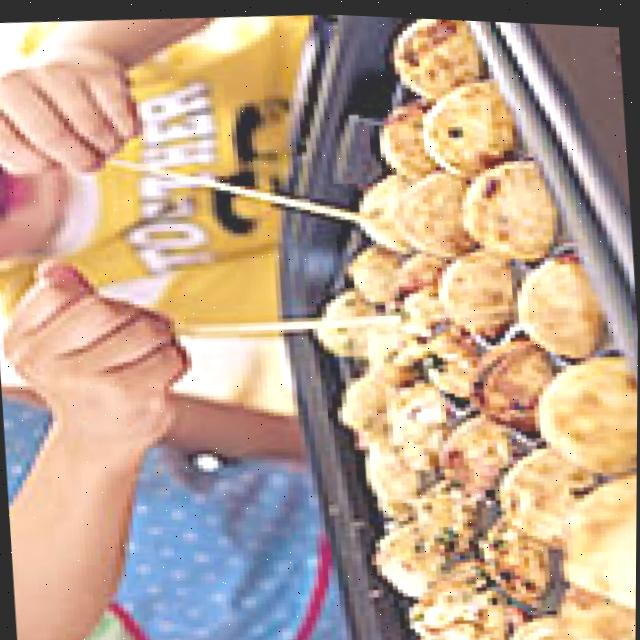炸货点心: (229, 8, 640, 640)
